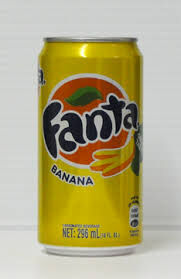Fanta: (34, 40, 146, 254)
